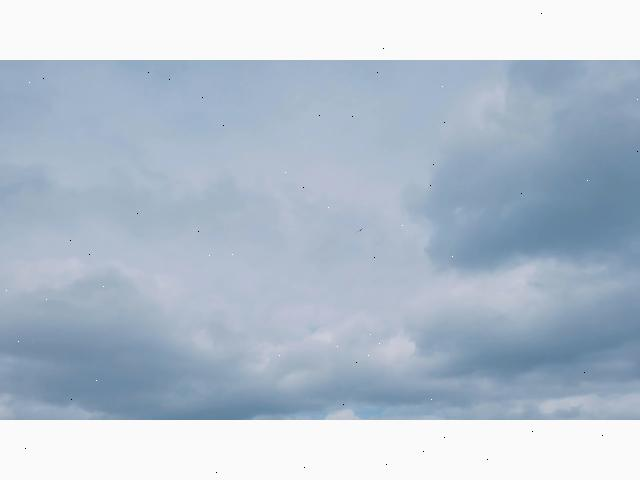Anti-Drone: (354, 223, 368, 235)
